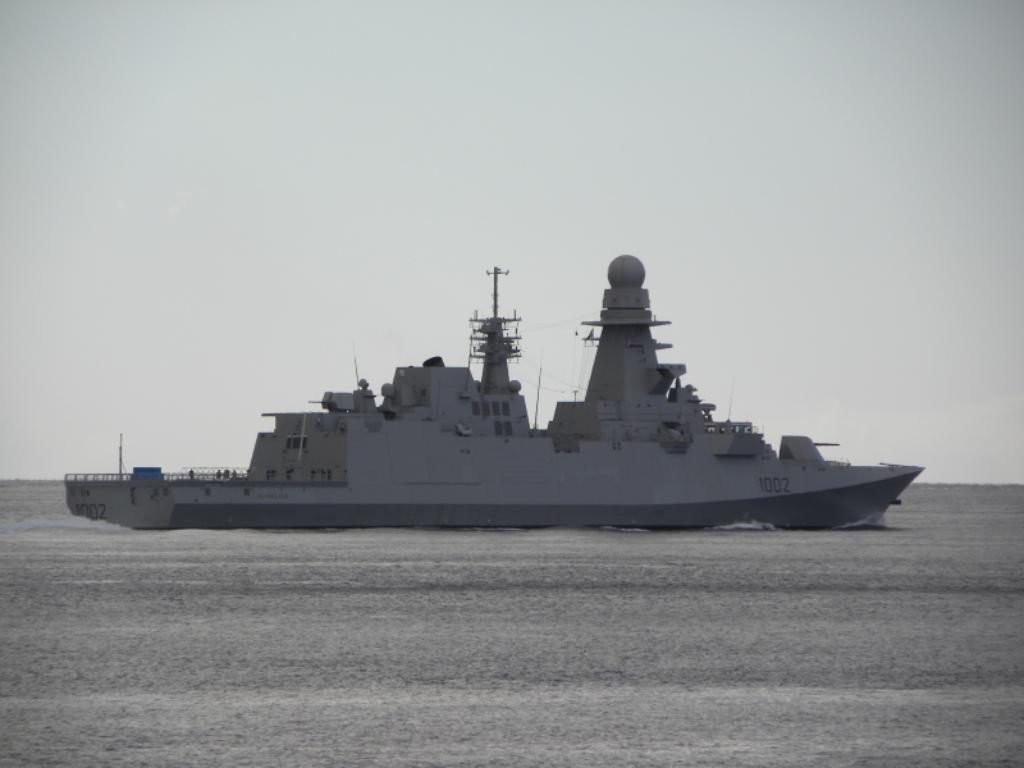Warship: (57, 242, 927, 536)
